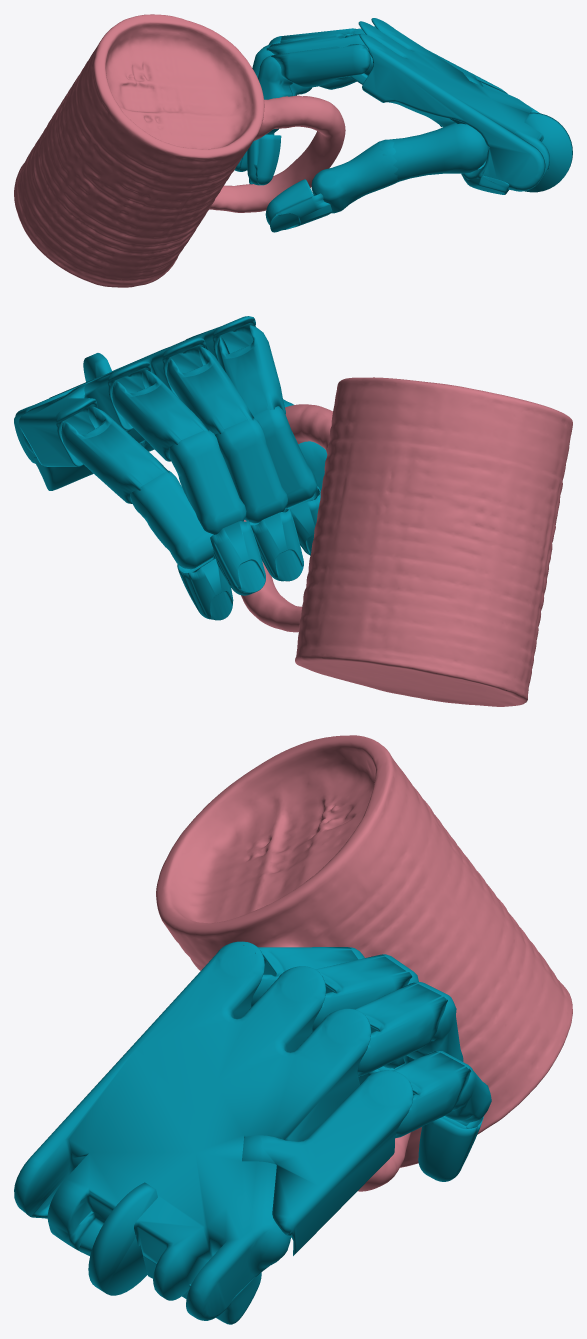
3 renders of one model, top to bottom at view 1: azimuth 30°, elevation 25°; view 2: azimuth 150°, elevation 25°; view 3: azimuth 270°, elevation 25°, orthographic. The views are drawn at different scales.
Parts seen in each view (by area): view 1: world; view 2: world; view 3: world.
Part boxes in pixels (x1=…): world: x1=14, y1=14, x2=572, y2=287; world: x1=14, y1=316, x2=572, y2=706; world: x1=14, y1=735, x2=572, y2=1324.
Size of the model in its own units: 0.262 by 0.1384 by 0.1763.
